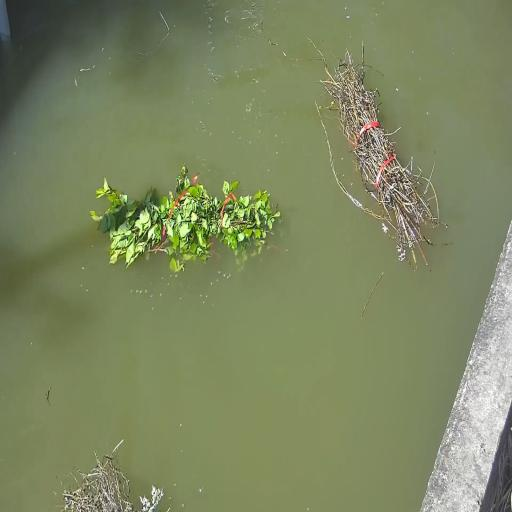twig: (315, 44, 441, 267), (90, 165, 281, 273), (62, 441, 139, 512)
